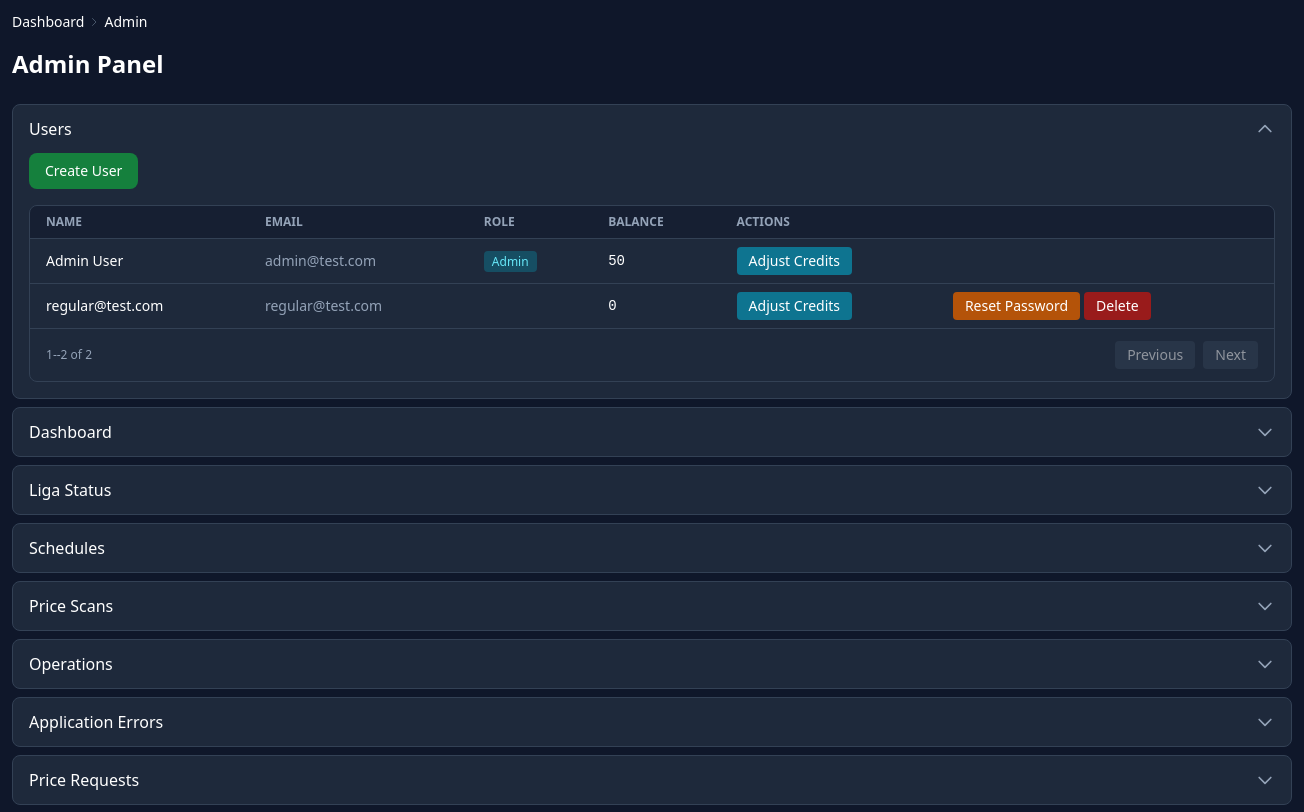
Test: AdminPanel › opens adjust form when clicking adjust button
Click the button with test id "adjust-btn-1": coordinates (794, 261) [737, 247, 852, 275]
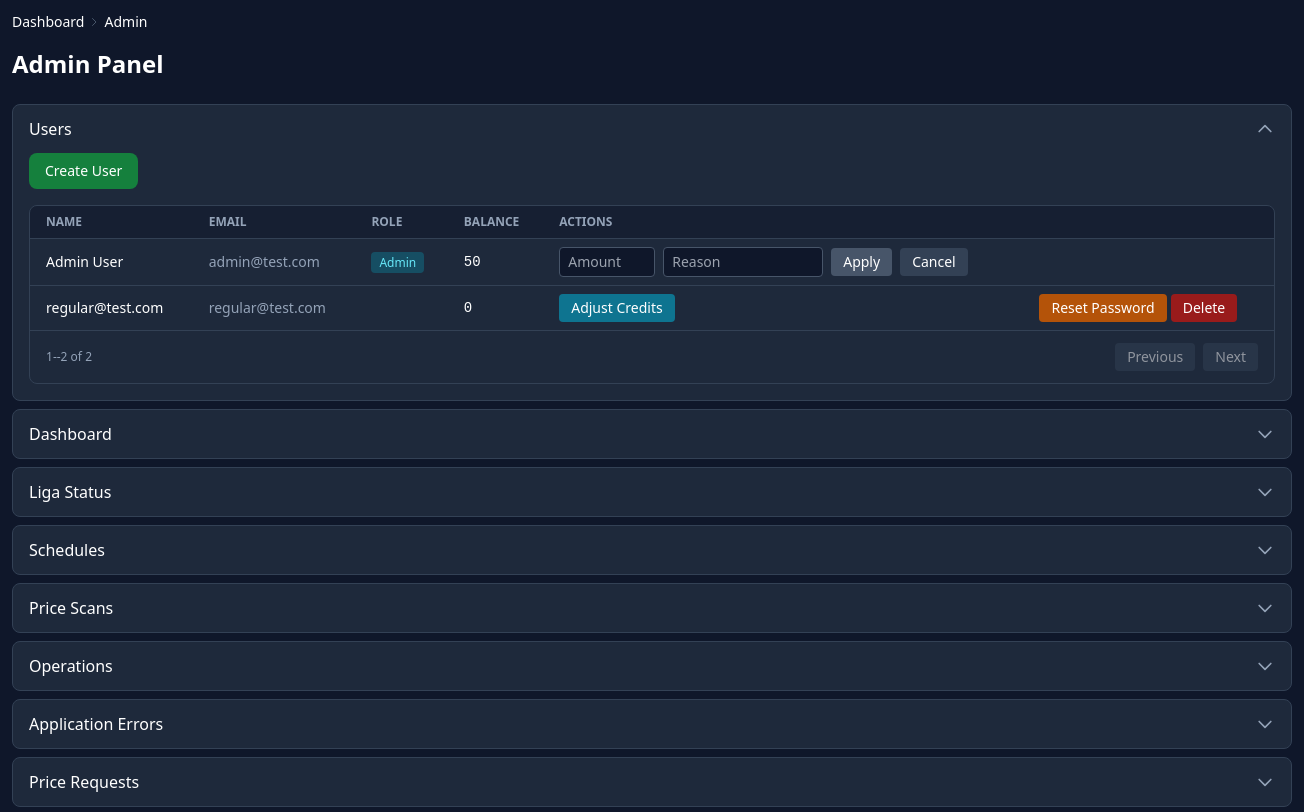
expect the element with test id "adjust-form-1" is shown: met, box [559, 247, 1007, 277]
